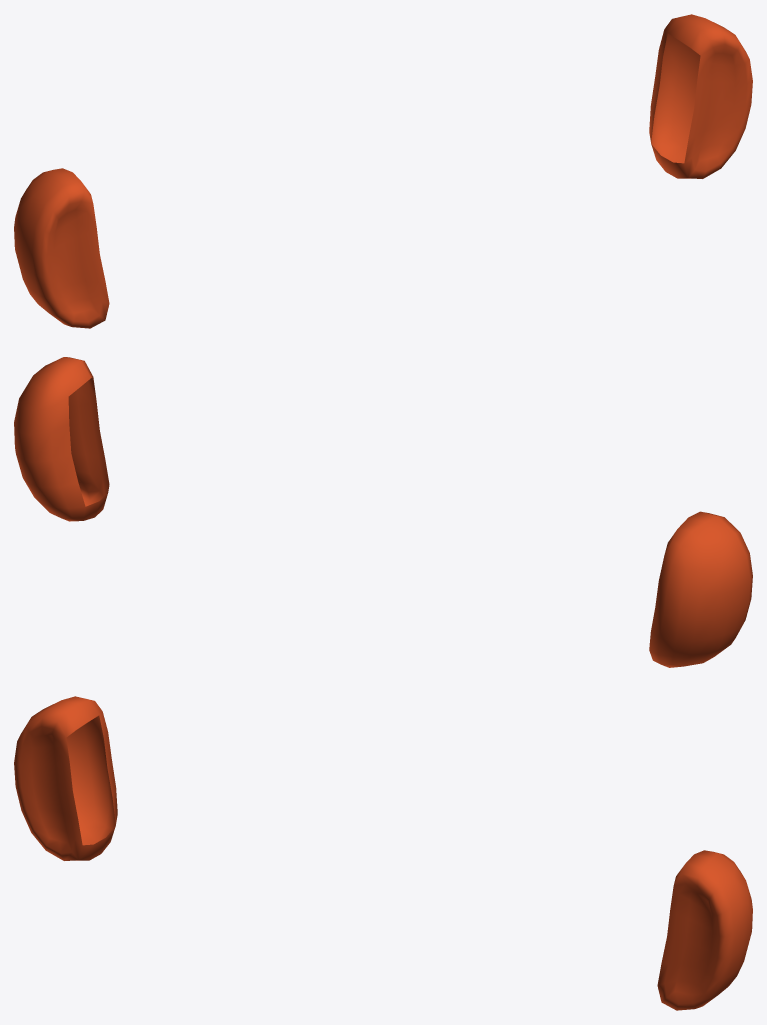
The model's file is Ears_08.glb.
3 views of the same model, one above another, from view 1: azimuth 30°, elevation 25°; view 2: azimuth 150°, elevation 25°; view 3: azimuth 330°, elevation 25° (orthographic).
Parts seen in each view (by area): view 1: Ears_08; view 2: Ears_08; view 3: Ears_08.
Boxes of the visible parts, <box> form: Ears_08: <box>14,14,752,328</box>; Ears_08: <box>14,357,752,667</box>; Ears_08: <box>14,696,752,1010</box>.
Bounding box in the file's own units: 0.6554 × 0.1295 × 0.076.
Materials: 1 (1 with a texture image).
